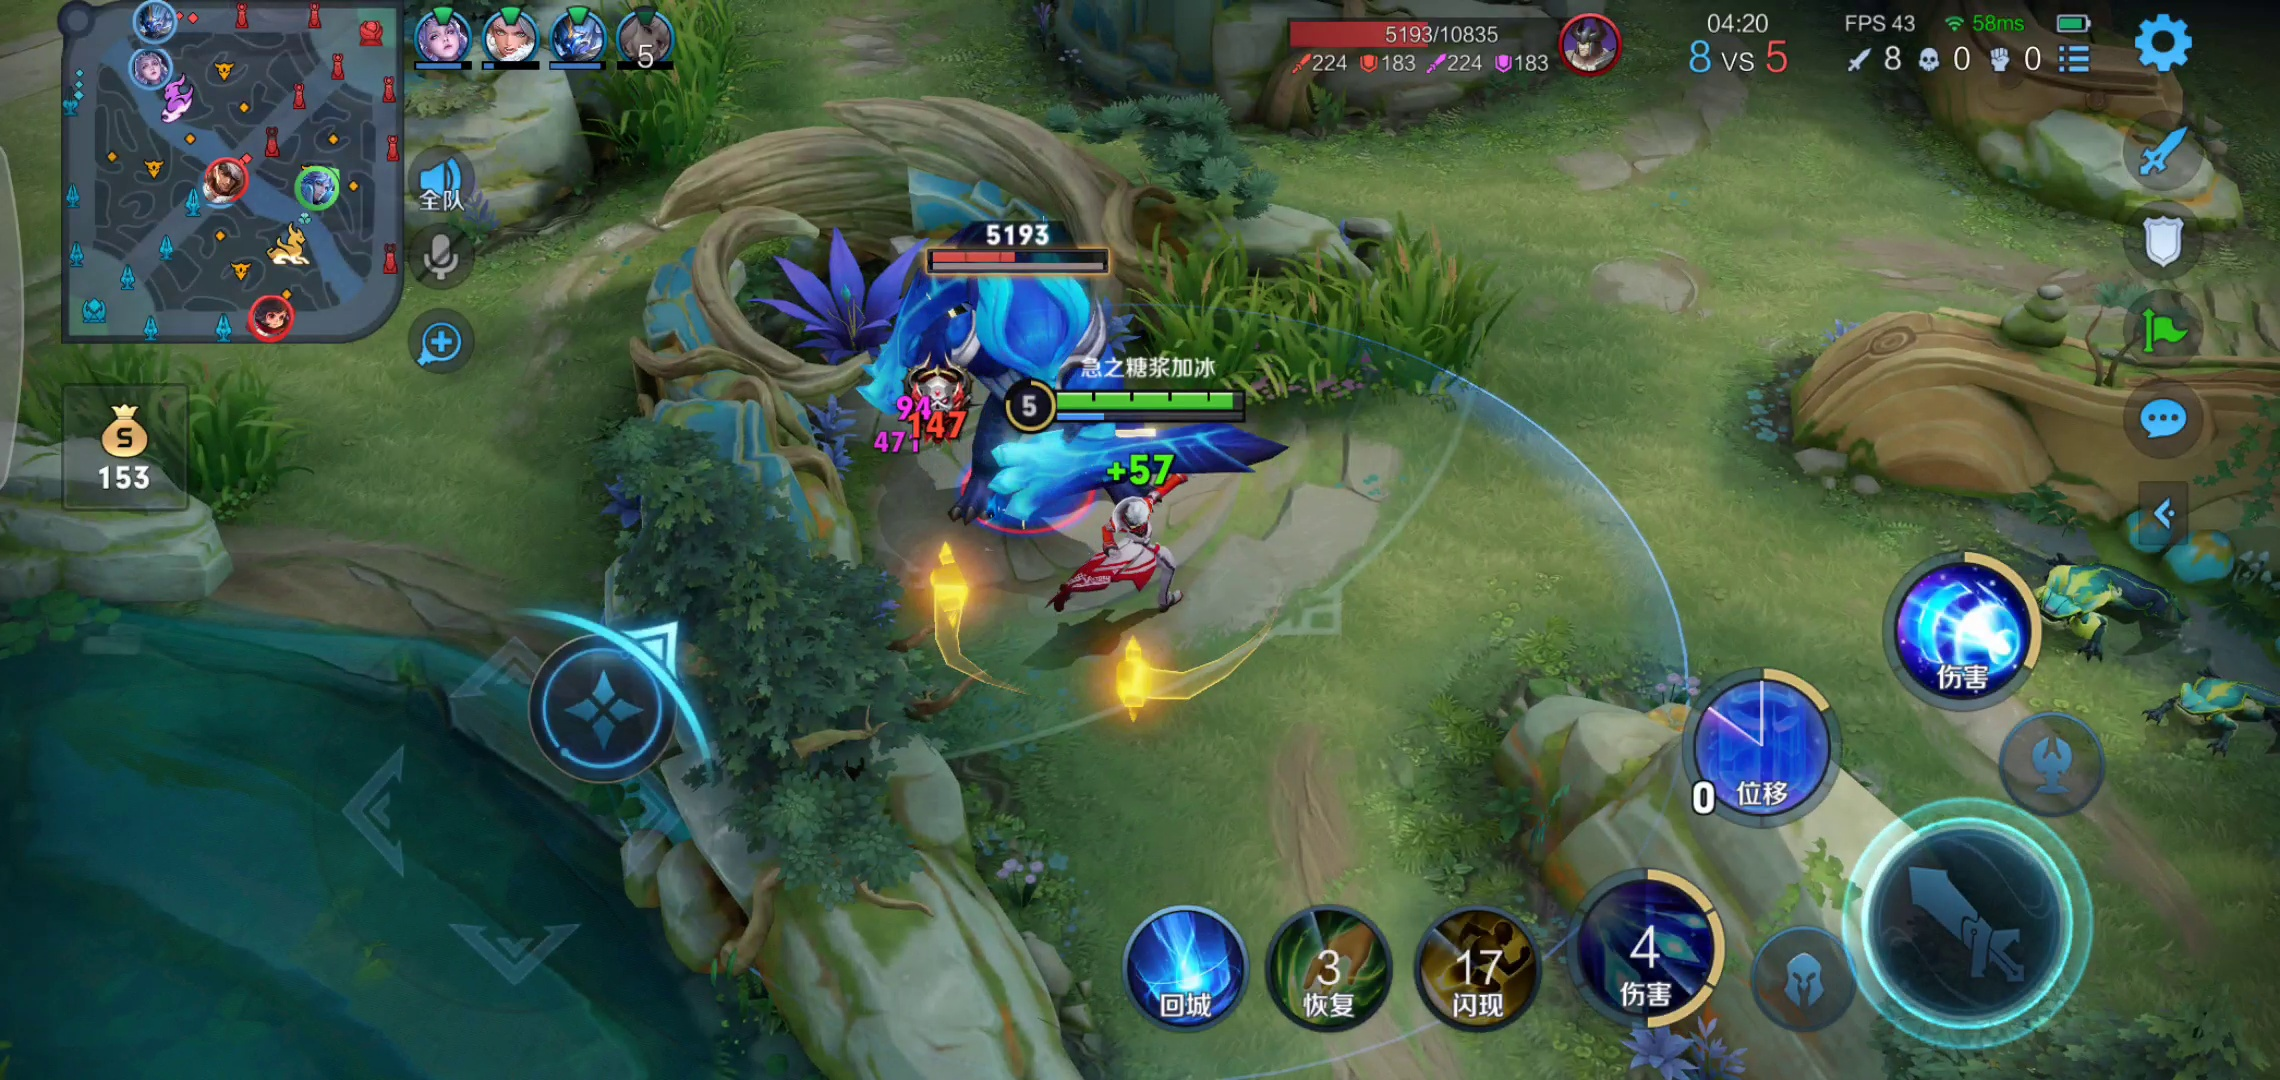buff: (811, 243, 1150, 523)
grass: (33, 355, 313, 528), (1136, 267, 1522, 390), (587, 1, 736, 161)
hero: (1067, 485, 1198, 616)
wild_monster: (2010, 535, 2274, 765)
